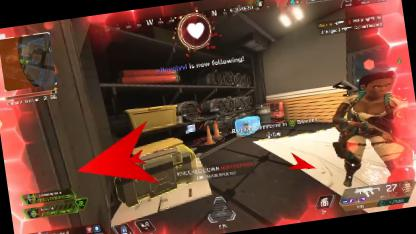Target: (330, 67, 409, 192)
